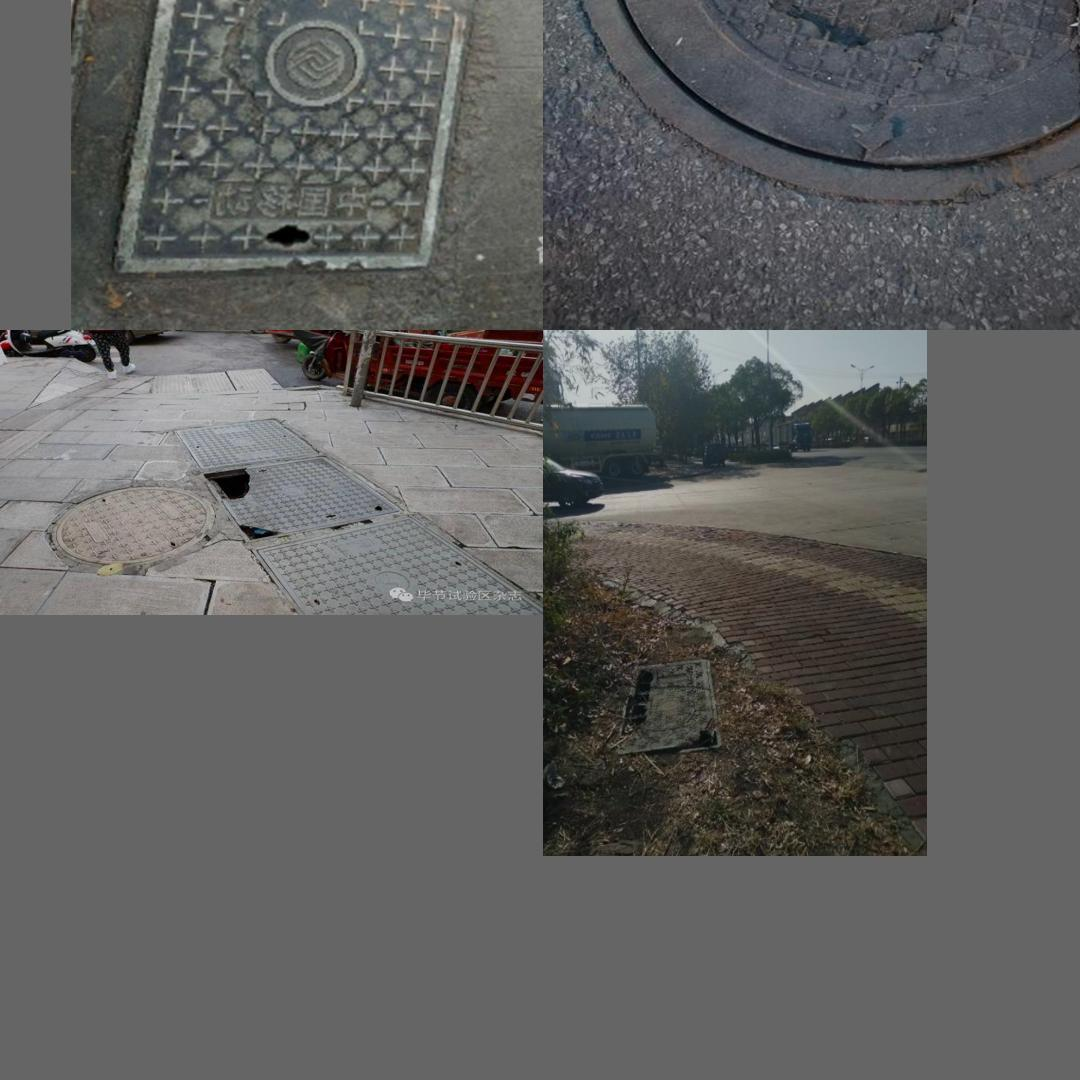broke: (111, 0, 491, 275), (577, 0, 1080, 202), (198, 461, 410, 542), (616, 659, 722, 754)
